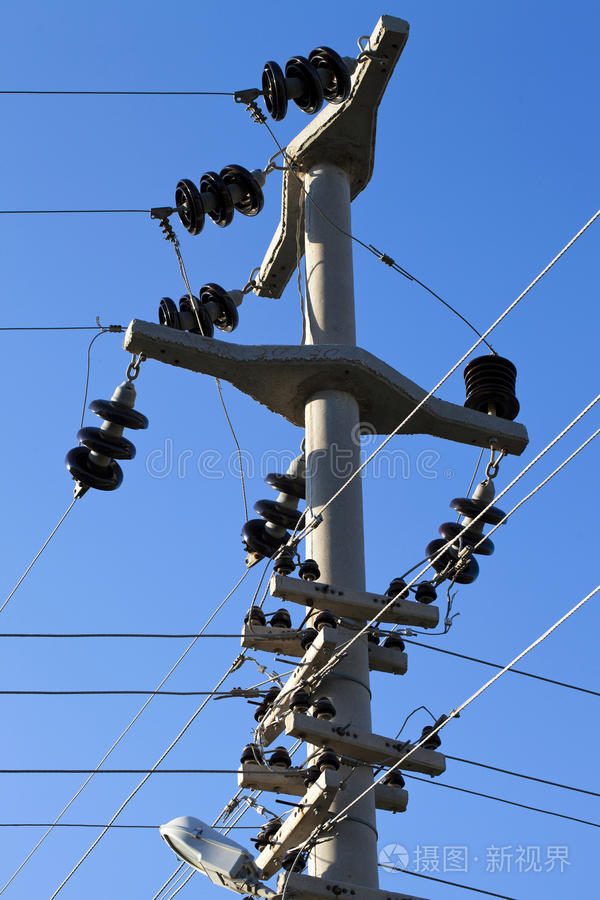insulator: (64, 399, 152, 494), (256, 40, 358, 120), (422, 499, 514, 585), (173, 166, 266, 240), (237, 468, 311, 561), (154, 280, 242, 335)
